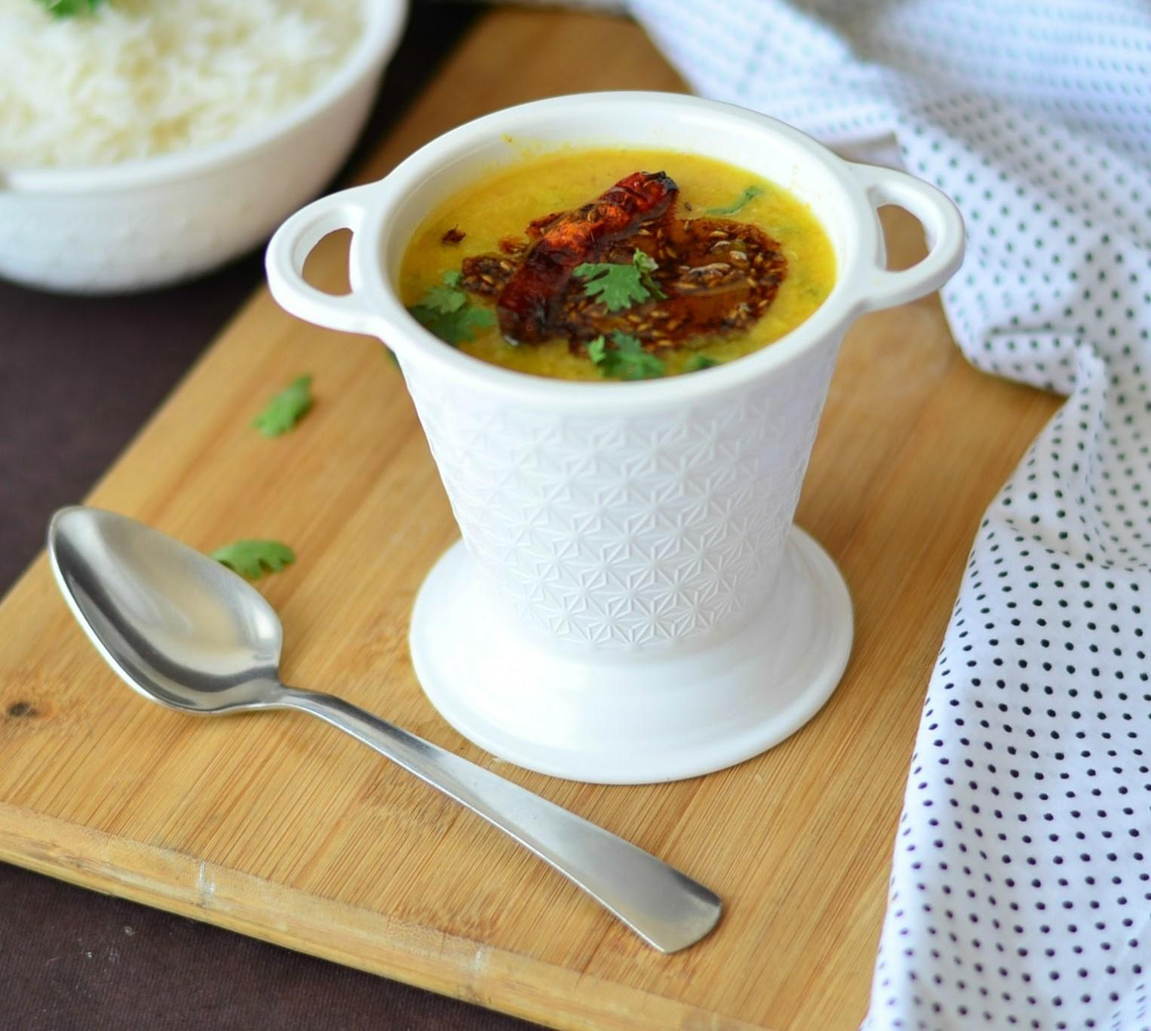Dal: (399, 142, 834, 379)
